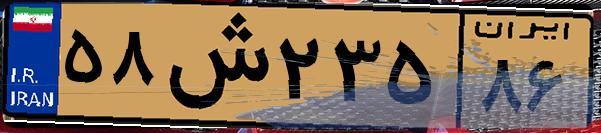2: (270, 28, 330, 110)
3: (330, 28, 385, 110)
5: (385, 28, 445, 110), (57, 26, 110, 100)
6: (525, 38, 570, 115)
8: (475, 38, 525, 113), (110, 28, 158, 98)
ش: (158, 12, 270, 120)
